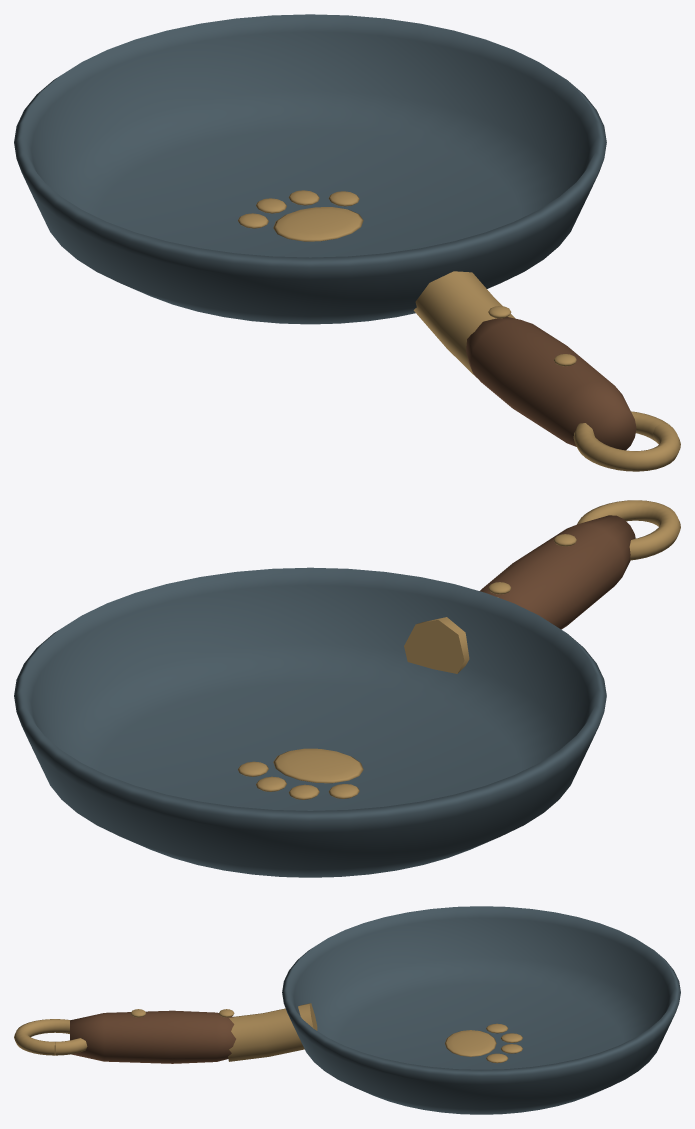
Rendered from weapon_pan_atelier.glb.
3 renders of one model, top to bottom at view 1: azimuth 30°, elevation 25°; view 2: azimuth 150°, elevation 25°; view 3: azimuth 270°, elevation 25°, orthographic. The views are drawn at different scales.
Visible parts, largest first — view 1: weapon_pan_atelier__Painted_weapon_pan_crafted_Metal, weapon_pan_atelier__TaggedPainted_weapon_pan_crafted_Matte; view 2: weapon_pan_atelier__Painted_weapon_pan_crafted_Metal, weapon_pan_atelier__TaggedPainted_weapon_pan_crafted_Matte; view 3: weapon_pan_atelier__Painted_weapon_pan_crafted_Metal, weapon_pan_atelier__TaggedPainted_weapon_pan_crafted_Matte.
Part boxes in pixels (bbox=[...]): weapon_pan_atelier__Painted_weapon_pan_crafted_Metal: bbox=[14, 14, 680, 471]; weapon_pan_atelier__TaggedPainted_weapon_pan_crafted_Matte: bbox=[466, 317, 636, 450]; weapon_pan_atelier__Painted_weapon_pan_crafted_Metal: bbox=[14, 500, 680, 877]; weapon_pan_atelier__TaggedPainted_weapon_pan_crafted_Matte: bbox=[480, 515, 635, 629]; weapon_pan_atelier__Painted_weapon_pan_crafted_Metal: bbox=[14, 906, 680, 1114]; weapon_pan_atelier__TaggedPainted_weapon_pan_crafted_Matte: bbox=[70, 1010, 235, 1063].
Bounding box in the file's own units: 0.814 × 0.1646 × 1.36.
